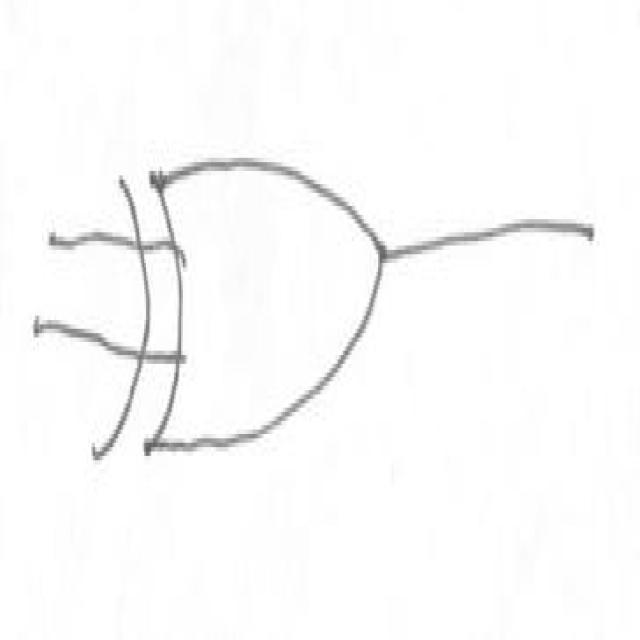XOR: (87, 110, 412, 496)
